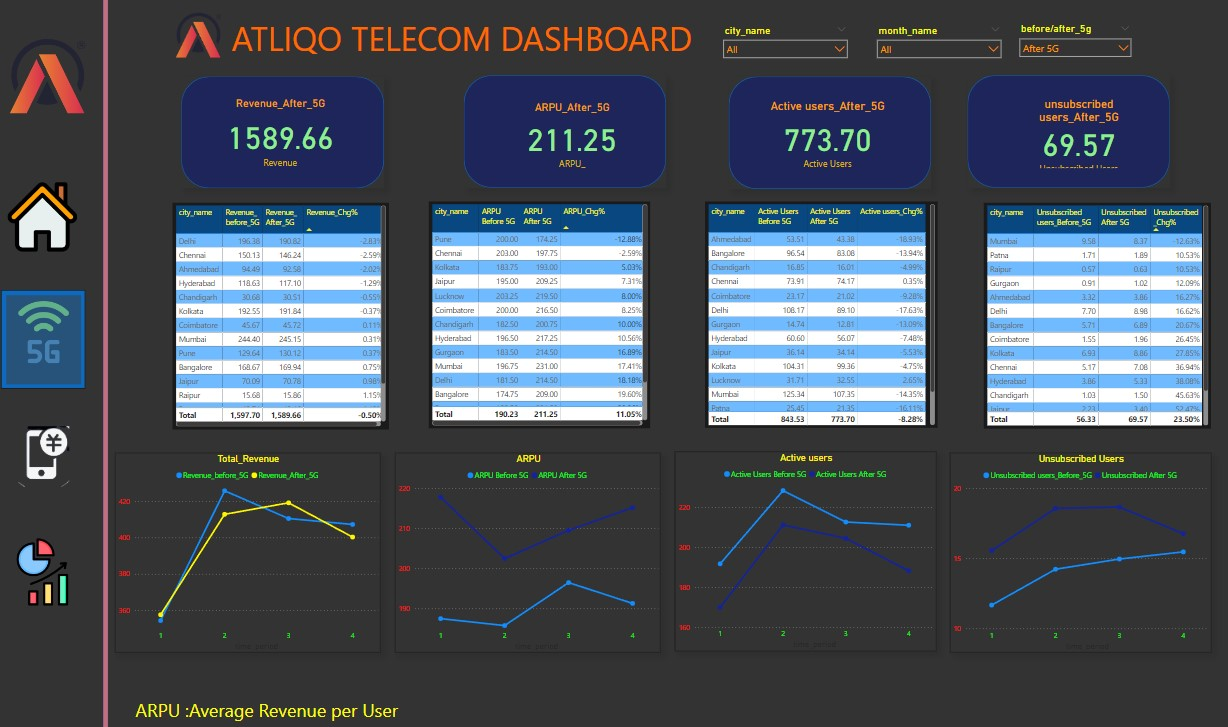

The page's visual inventory and layout, read from the dashboard file:
{"tool":"powerbi","page":{"name":"5G_Overview","canvas":[2200,1300],"ordinal":1},"visuals":[{"type":"shape","box":[1302.6,137.2,359.5,200],"z":0,"group":"g1"},{"type":"tableEx","fields":{"Values":["dim_cities.city_name","fact_atliqo_metrics.Revenue_before_5G","fact_atliqo_metrics.Revenue_After_5G","fact_atliqo_metrics.Revenue_Chg%"]},"box":[315.5,362,384.5,402.8],"z":0},{"type":"shape","box":[1728.8,134.8,359.5,200],"z":1000,"group":"g1"},{"type":"tableEx","fields":{"Values":["dim_cities.city_name","fact_atliqo_metrics.ARPU Before 5G","fact_atliqo_metrics.ARPU After 5G","fact_atliqo_metrics.ARPU_Chg%"]},"box":[771.2,360.3,393.8,403.1],"z":1000},{"type":"shape","box":[833.6,134.8,359.5,200],"z":2000,"group":"g1"},{"type":"tableEx","fields":{"Values":["dim_cities.city_name","fact_atliqo_metrics.Active Users Before 5G","fact_atliqo_metrics.Active Users After 5G","fact_atliqo_metrics.Active users_Chg%"]},"box":[1262,360.4,413.9,402.8],"z":2000},{"type":"card","fields":{"Values":["fact_atliqo_metrics.ARPU_"]},"box":[909.9,166.8,229.4,140],"z":3000,"group":"g1"},{"type":"tableEx","fields":{"Values":["dim_cities.city_name","fact_atliqo_metrics.Unsubscribed users_Before_5G","fact_atliqo_metrics.Unsubscribed After 5G","fact_atliqo_metrics.Unsubscribed_Chg%"]},"box":[1757.8,361.8,404.2,401.4],"z":3000},{"type":"card","fields":{"Values":["fact_atliqo_metrics.Active Users"]},"box":[1361.7,163.3,235.3,143.5],"z":4000,"group":"g1"},{"type":"lineChart","title":"Total_Revenue","fields":{"Category":["dim_date.time_period"],"Y":["fact_atliqo_metrics.Revenue_before_5G","fact_atliqo_metrics.Revenue_After_5G"]},"box":[213.5,806.8,472.3,355.4],"z":4000},{"type":"card","fields":{"Values":["fact_atliqo_metrics.Unsubscribed Users"]},"box":[1794.6,158.6,262.4,145.9],"z":5000,"group":"g1"},{"type":"lineChart","title":"ARPU","fields":{"Category":["dim_date.time_period"],"Y":["fact_atliqo_metrics.ARPU Before 5G","fact_atliqo_metrics.ARPU After 5G"]},"box":[710.9,806.2,472.3,355.4],"z":5000},{"type":"lineChart","title":"Active users","fields":{"Category":["dim_date.time_period"],"Y":["fact_atliqo_metrics.Active Users Before 5G","fact_atliqo_metrics.Active Users After 5G"]},"box":[1208.4,805.2,464.6,355.4],"z":6000},{"type":"lineChart","title":"Unsubscribed Users","fields":{"Category":["dim_date.time_period"],"Y":["fact_atliqo_metrics.Unsubscribed users_Before_5G","fact_atliqo_metrics.Unsubscribed After 5G"]},"box":[1698.1,805.7,464.6,355.4],"z":7000},{"type":"group","id":"g1","title":"Group 1","box":[330.4,134.8,1757.9,202.4],"z":8000},{"type":"shape","box":[65.5,0,264.4,1300],"z":9000},{"type":"image","box":[17.4,306.5,132.6,160.9],"z":10000},{"type":"image","box":[19.6,516.7,132.6,160.9],"z":11000},{"type":"image","box":[17.4,937,132.6,160.9],"z":12000},{"type":"shape","box":[330.4,137.4,360.5,198.8],"z":13000,"group":"g1"},{"type":"image","box":[19.6,726.8,132.6,160.9],"z":13000},{"type":"shape","box":[11.8,517.6,149,174.5],"z":14000},{"type":"textbox","box":[152.9,25.1,1352.9,135.3],"z":15000},{"type":"card","fields":{"Values":["fact_atliqo_metrics.Revenue"]},"box":[379.8,159.7,254.3,148.1],"z":15000,"group":"g1"},{"type":"image","box":[245.1,17.3,235.3,92.2],"z":16000},{"type":"slicer","fields":{"Values":["dim_cities.city_name"]},"box":[1284.3,39.2,241.2,70.6],"z":17000},{"type":"slicer","fields":{"Values":["dim_date.month_name"]},"box":[1556.9,39.2,241.2,70.6],"z":18000},{"type":"slicer","fields":{"Values":["dim_date.before/after_5g"]},"box":[1811.8,38.8,218.8,70.6],"z":19000},{"type":"image","box":[19,42.9,150,188.1],"z":20000},{"type":"textbox","box":[244.7,1236.8,1176.3,63.2],"z":21000}]}

Visuals, with their boxes on the page's 2200x1300 design canvas (x1, y1, x2, y2). These are canvas units, not pixel positions in the 1228x727 screenshot, which may show the page scaled, cropped or inside an application window:
shape: box(1303, 137, 1662, 337)
tableEx - dim_cities.city_name x fact_atliqo_metrics.Revenue_before_5G: box(316, 362, 700, 765)
shape: box(1729, 135, 2088, 335)
tableEx - dim_cities.city_name x fact_atliqo_metrics.ARPU Before 5G: box(771, 360, 1165, 763)
shape: box(834, 135, 1193, 335)
tableEx - dim_cities.city_name x fact_atliqo_metrics.Active Users Before 5G: box(1262, 360, 1676, 763)
card - fact_atliqo_metrics.ARPU_: box(910, 167, 1139, 307)
tableEx - dim_cities.city_name x fact_atliqo_metrics.Unsubscribed users_Before_5G: box(1758, 362, 2162, 763)
card - fact_atliqo_metrics.Active Users: box(1362, 163, 1597, 307)
"Total_Revenue" lineChart: box(214, 807, 686, 1162)
card - fact_atliqo_metrics.Unsubscribed Users: box(1795, 159, 2057, 304)
"ARPU" lineChart: box(711, 806, 1183, 1162)
"Active users" lineChart: box(1208, 805, 1673, 1161)
"Unsubscribed Users" lineChart: box(1698, 806, 2163, 1161)
"Group 1" group: box(330, 135, 2088, 337)
shape: box(66, 0, 330, 1300)
image: box(17, 306, 150, 467)
image: box(20, 517, 152, 678)
image: box(17, 937, 150, 1098)
shape: box(330, 137, 691, 336)
image: box(20, 727, 152, 888)
shape: box(12, 518, 161, 692)
textbox: box(153, 25, 1506, 160)
card - fact_atliqo_metrics.Revenue: box(380, 160, 634, 308)
image: box(245, 17, 480, 110)
slicer - dim_cities.city_name: box(1284, 39, 1526, 110)
slicer - dim_date.month_name: box(1557, 39, 1798, 110)
slicer - dim_date.before/after_5g: box(1812, 39, 2031, 109)
image: box(19, 43, 169, 231)
textbox: box(245, 1237, 1421, 1300)
